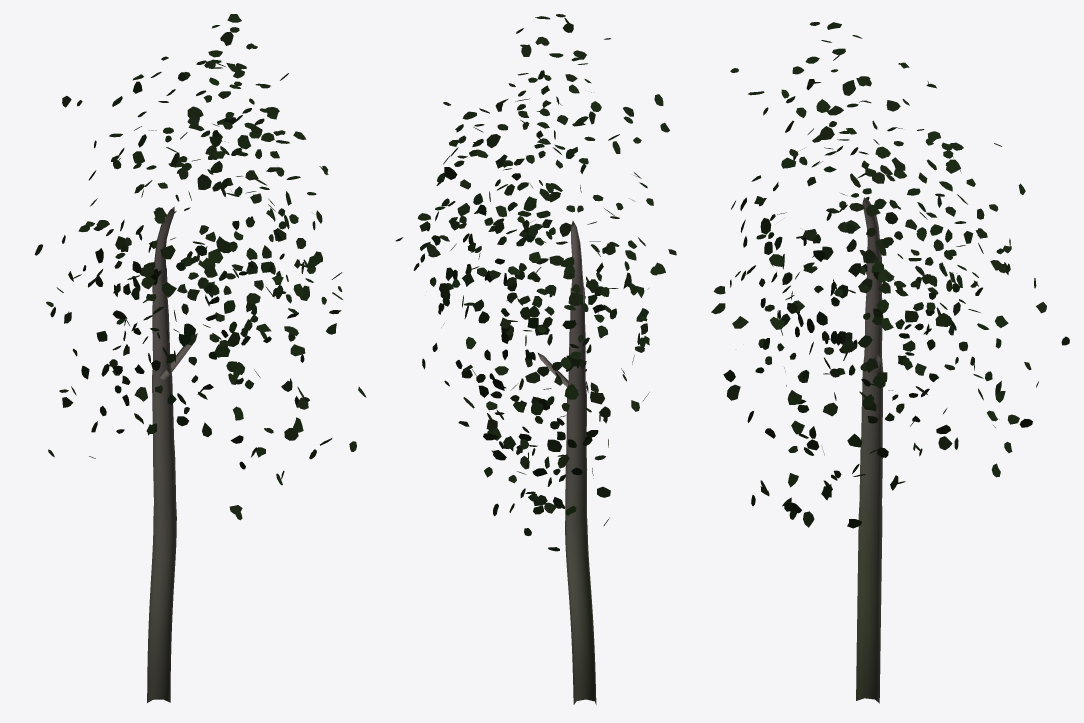
The model's file is SM_TreeFar_holly_0.glb.
The picture shows the model from 3 angles, left to right: view 1: azimuth 30°, elevation 25°; view 2: azimuth 150°, elevation 25°; view 3: azimuth 270°, elevation 25°; orthographic projection. The views are drawn at different scales.
Parts seen in each view (by area): view 1: SM_TreeFar_holly_0; view 2: SM_TreeFar_holly_0; view 3: SM_TreeFar_holly_0.
Boxes of the visible parts, x1,y1,x2,y2 form: SM_TreeFar_holly_0: [34, 14, 366, 702]; SM_TreeFar_holly_0: [395, 14, 676, 704]; SM_TreeFar_holly_0: [711, 22, 1069, 703].
Size of the model in its own units: 3.29 by 7.9 by 3.62.
